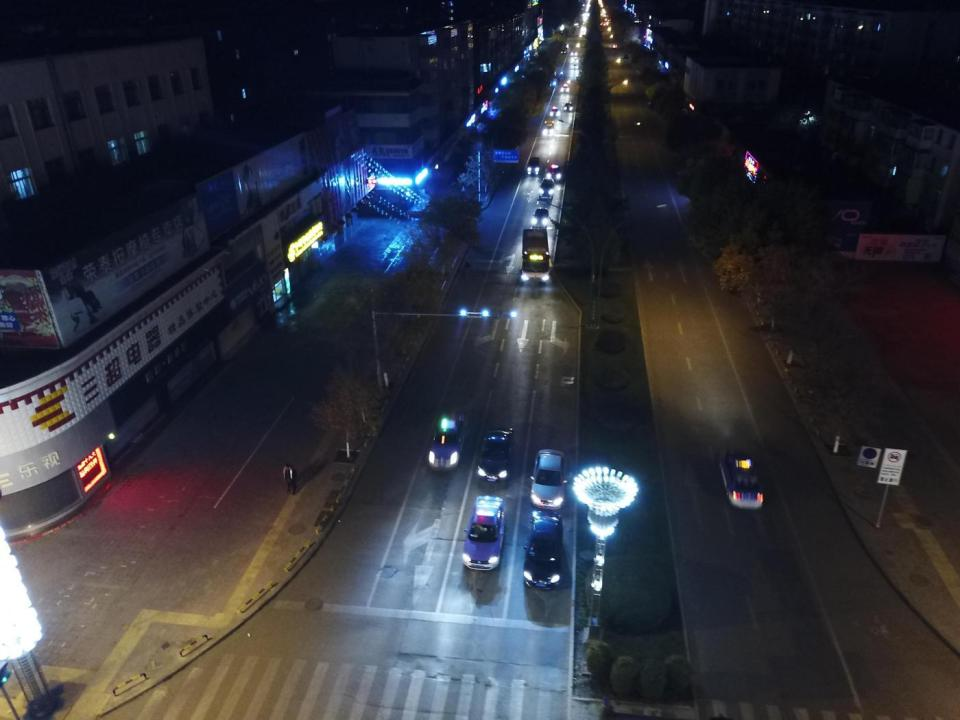bus: (521, 228, 549, 281)
car: (462, 493, 503, 573), (522, 511, 563, 589), (719, 449, 764, 510), (530, 449, 568, 509), (428, 411, 467, 469), (476, 428, 512, 483), (539, 178, 554, 198), (532, 208, 549, 225), (546, 165, 562, 180), (526, 156, 539, 174), (545, 116, 554, 136), (549, 106, 560, 116), (548, 78, 558, 87), (564, 102, 572, 110), (560, 83, 568, 91), (570, 50, 578, 56), (571, 64, 579, 68), (560, 49, 566, 54), (564, 42, 569, 48), (601, 20, 606, 26), (573, 57, 578, 62), (612, 43, 617, 48), (623, 54, 629, 58), (603, 22, 609, 26), (575, 22, 580, 26), (534, 52, 538, 56), (581, 27, 585, 31), (603, 14, 606, 18)
